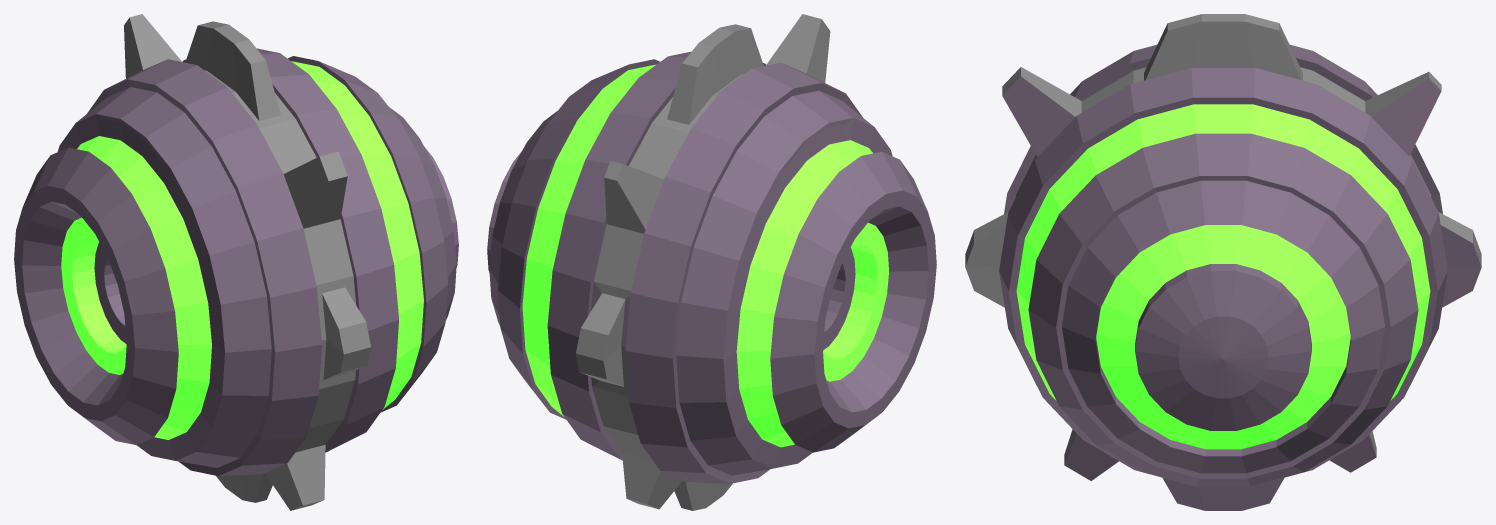
File: OrbRobot.fbx
3 views of the same model, side by side, from view 1: azimuth 30°, elevation 25°; view 2: azimuth 150°, elevation 25°; view 3: azimuth 270°, elevation 25° (orthographic). The views are drawn at different scales.
Parts seen in each view (by area): view 1: Sphere; view 2: Sphere; view 3: Sphere.
Boxes of the visible parts, box(x1,y1,x2,y2) form: Sphere: box(14, 14, 458, 510); Sphere: box(487, 14, 936, 510); Sphere: box(965, 14, 1481, 510).
Bounding box in the file's own units: 203 × 247 × 237.
